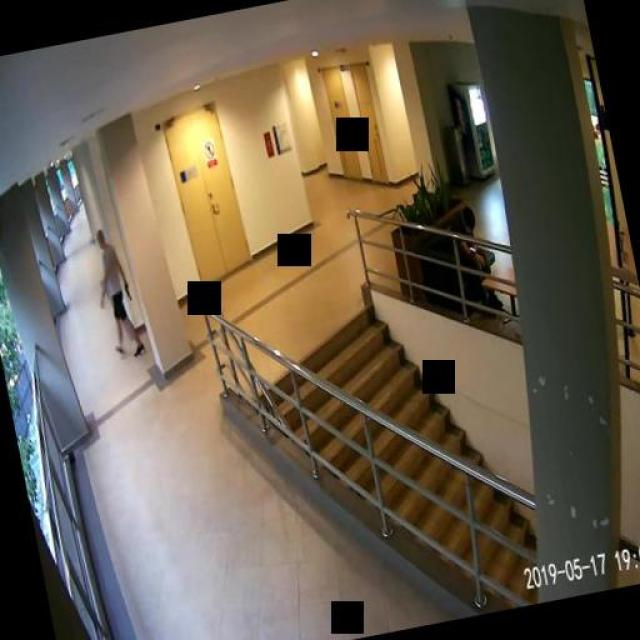gun: (120, 280, 131, 301)
